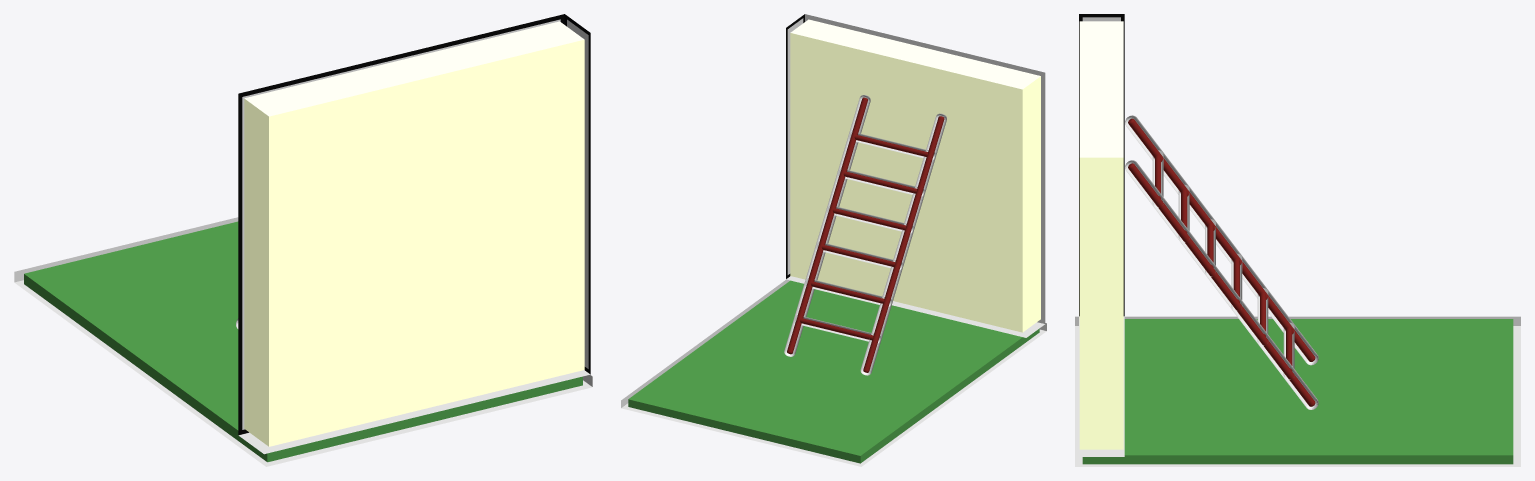
The model's file is LADDER.glb.
The picture shows the model from 3 angles, left to right: view 1: azimuth 30°, elevation 25°; view 2: azimuth 150°, elevation 25°; view 3: azimuth 270°, elevation 25°; orthographic projection. The views are drawn at different scales.
Parts seen in each view (by area): view 1: Cube, Cube.001; view 2: Cube, Cube.001, Cylinder; view 3: Cube.001, Cube, Cylinder.
Part boxes in pixels (<box>): Cube: <box>238,14,590,454</box>; Cube.001: <box>14,217,592,466</box>; Cube: <box>786,14,1045,337</box>; Cube.001: <box>621,279,1046,466</box>; Cylinder: <box>784,95,946,375</box>; Cube.001: <box>1075,316,1520,466</box>; Cube: <box>1079,14,1124,456</box>; Cylinder: <box>1125,115,1318,409</box>.
Bounding box in the file's own units: 2.07 × 2.14 × 2.77.
